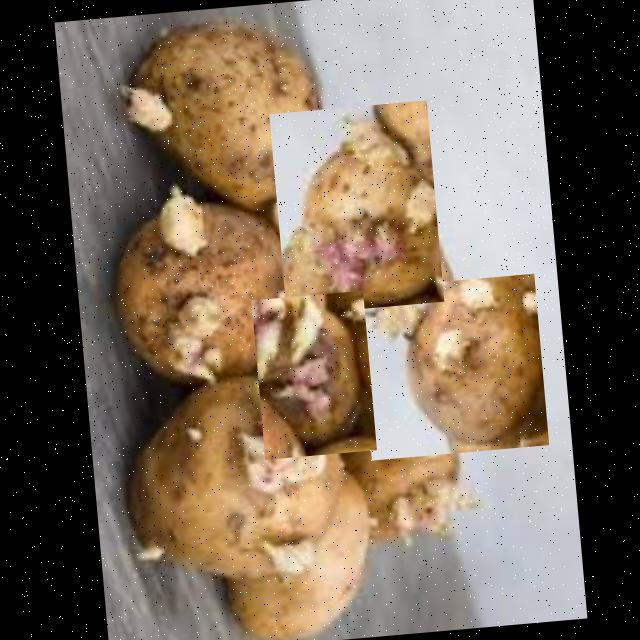Sprouted potato: (119, 363, 354, 579), (108, 178, 304, 400), (119, 2, 338, 200), (268, 100, 443, 315), (356, 273, 548, 460), (232, 464, 384, 638), (250, 290, 376, 460), (332, 420, 482, 560)
